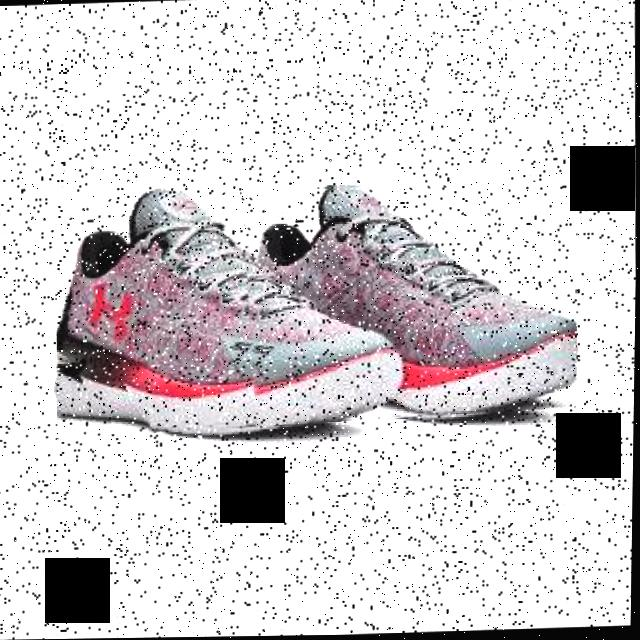shoe: (54, 184, 393, 438), (238, 182, 581, 428)
